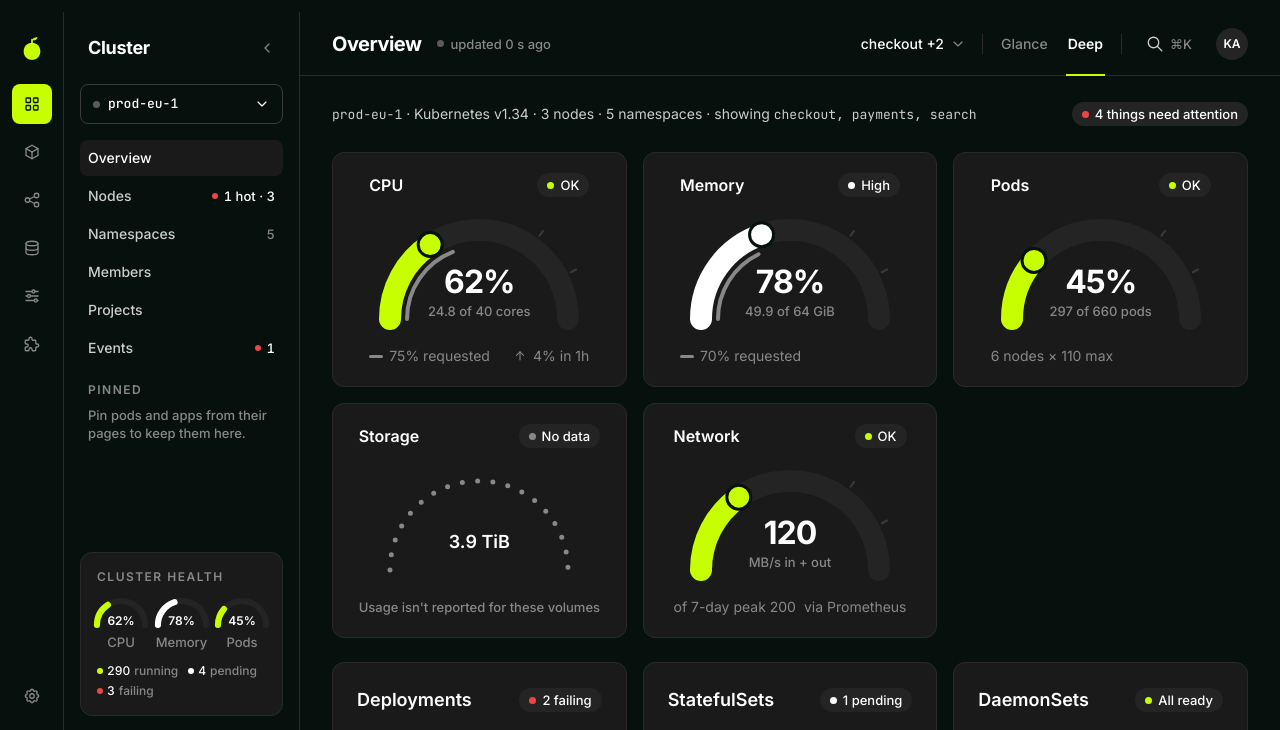
Test: picking several namespaces › takes one out, clears back to all, and a row click means only that one
Click the button with aria-label "Namespace:".
click(913, 44)  # box [861,28,966,60]
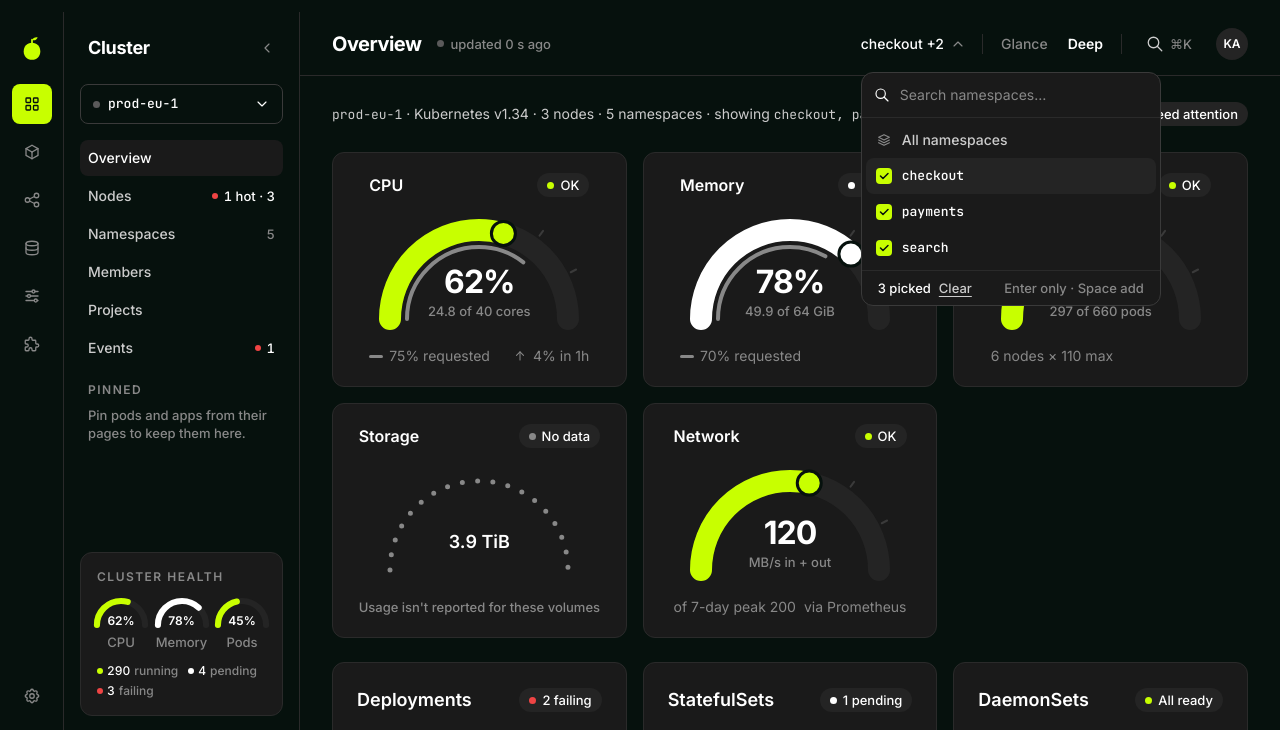
Click the 3rd element named "Take out of the set".
click(884, 248)  # box [876,240,892,256]
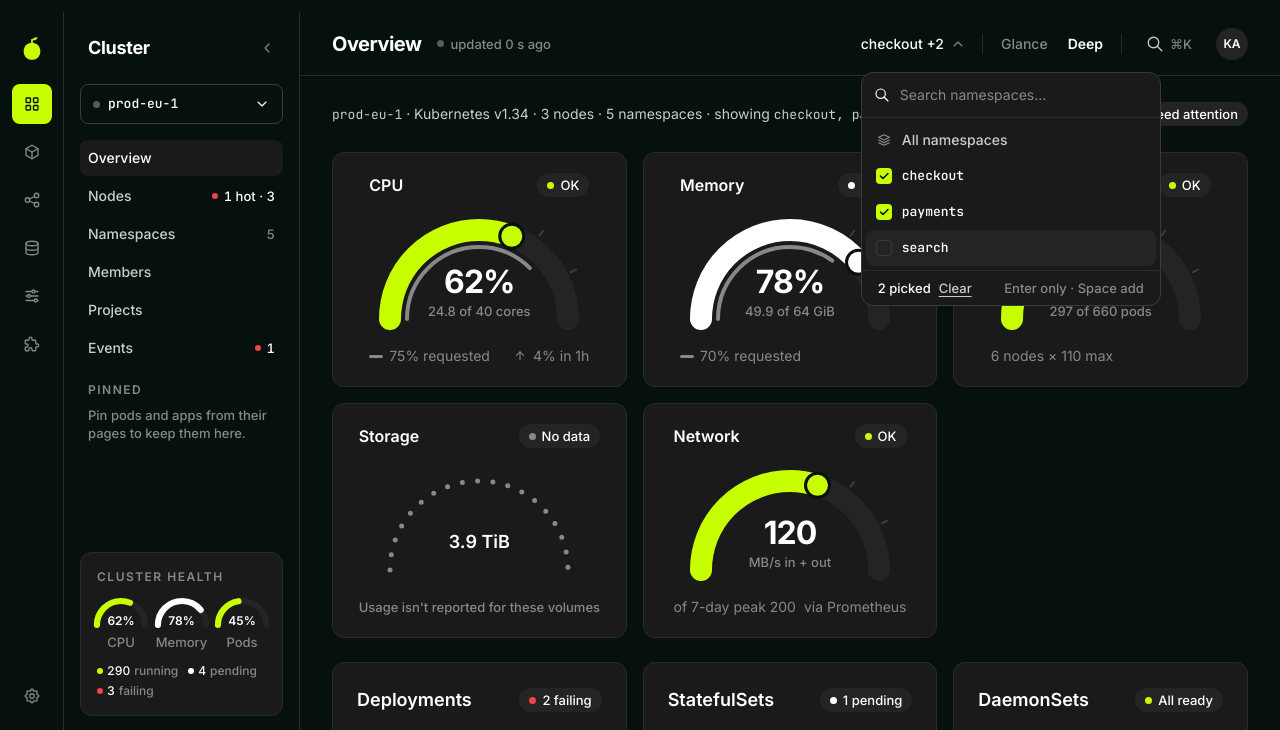
Click the button "Clear".
click(955, 288)  # box [939,278,972,296]
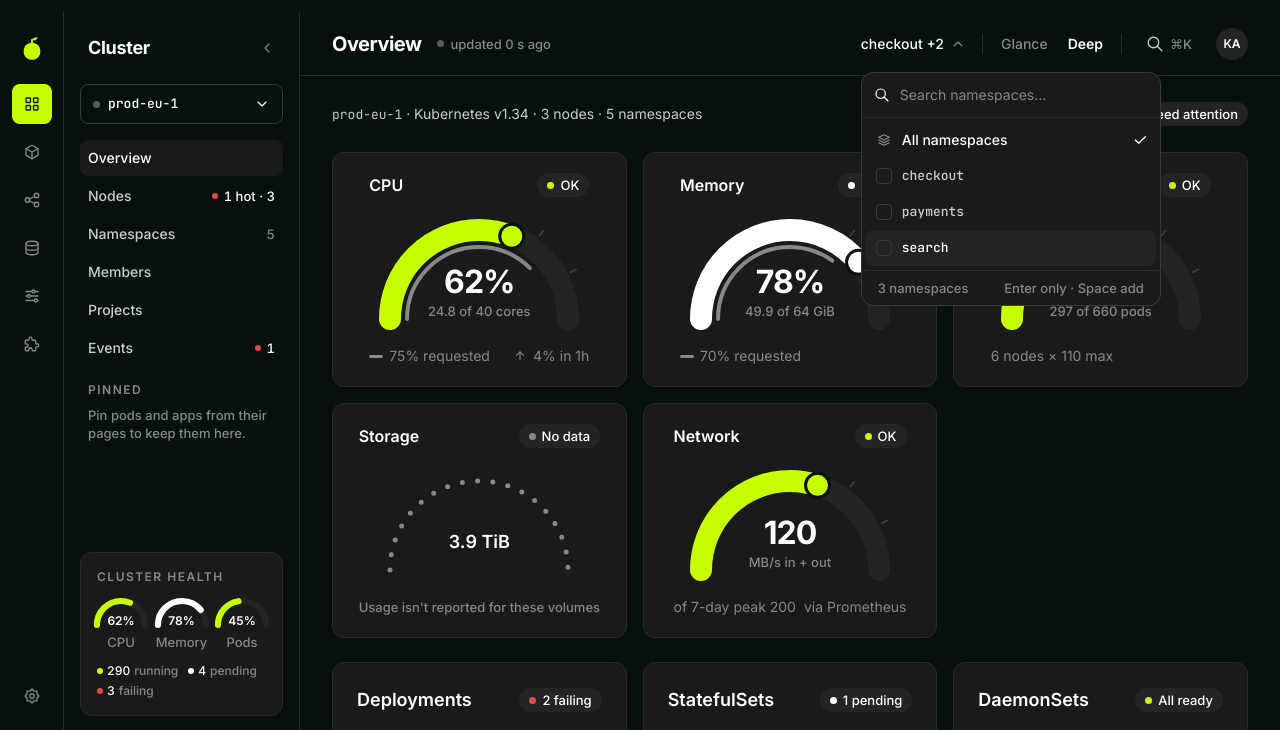
Click the option "payments".
click(920, 211)  # box [876,202,964,220]
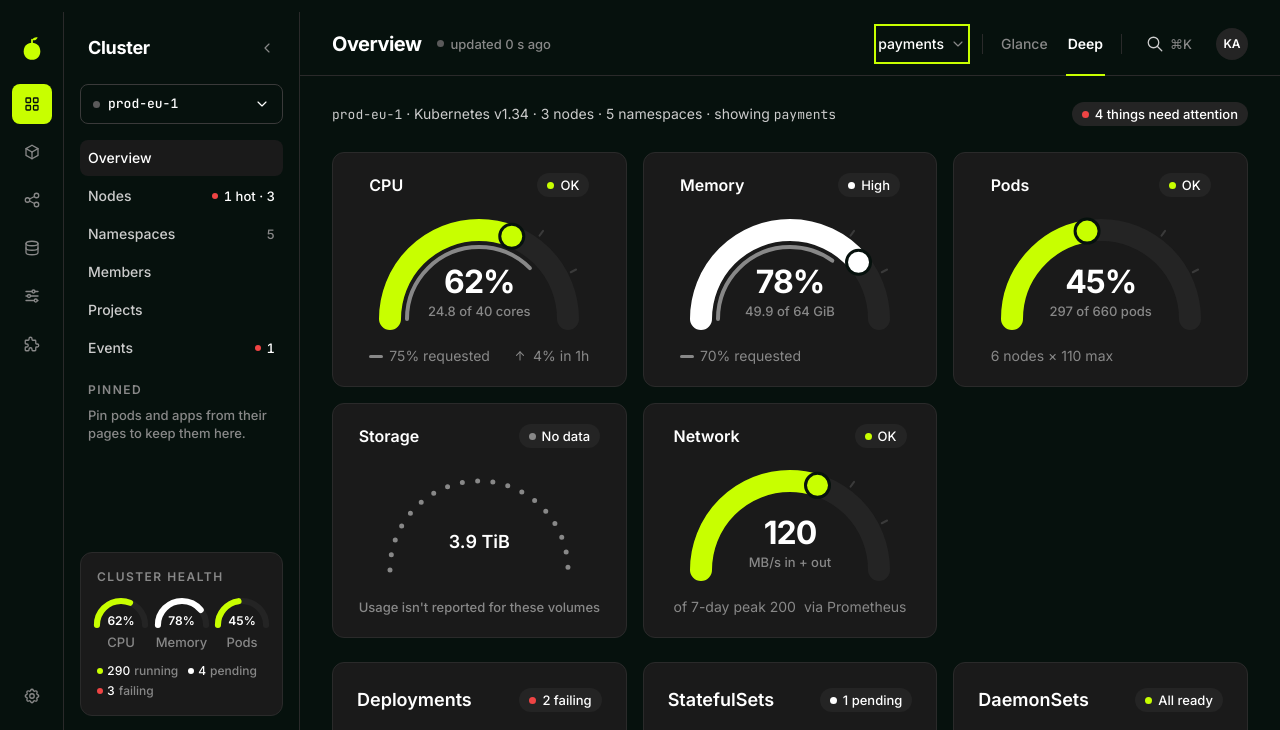
Expected: the list "All namespaces checkout payments search" is gone
